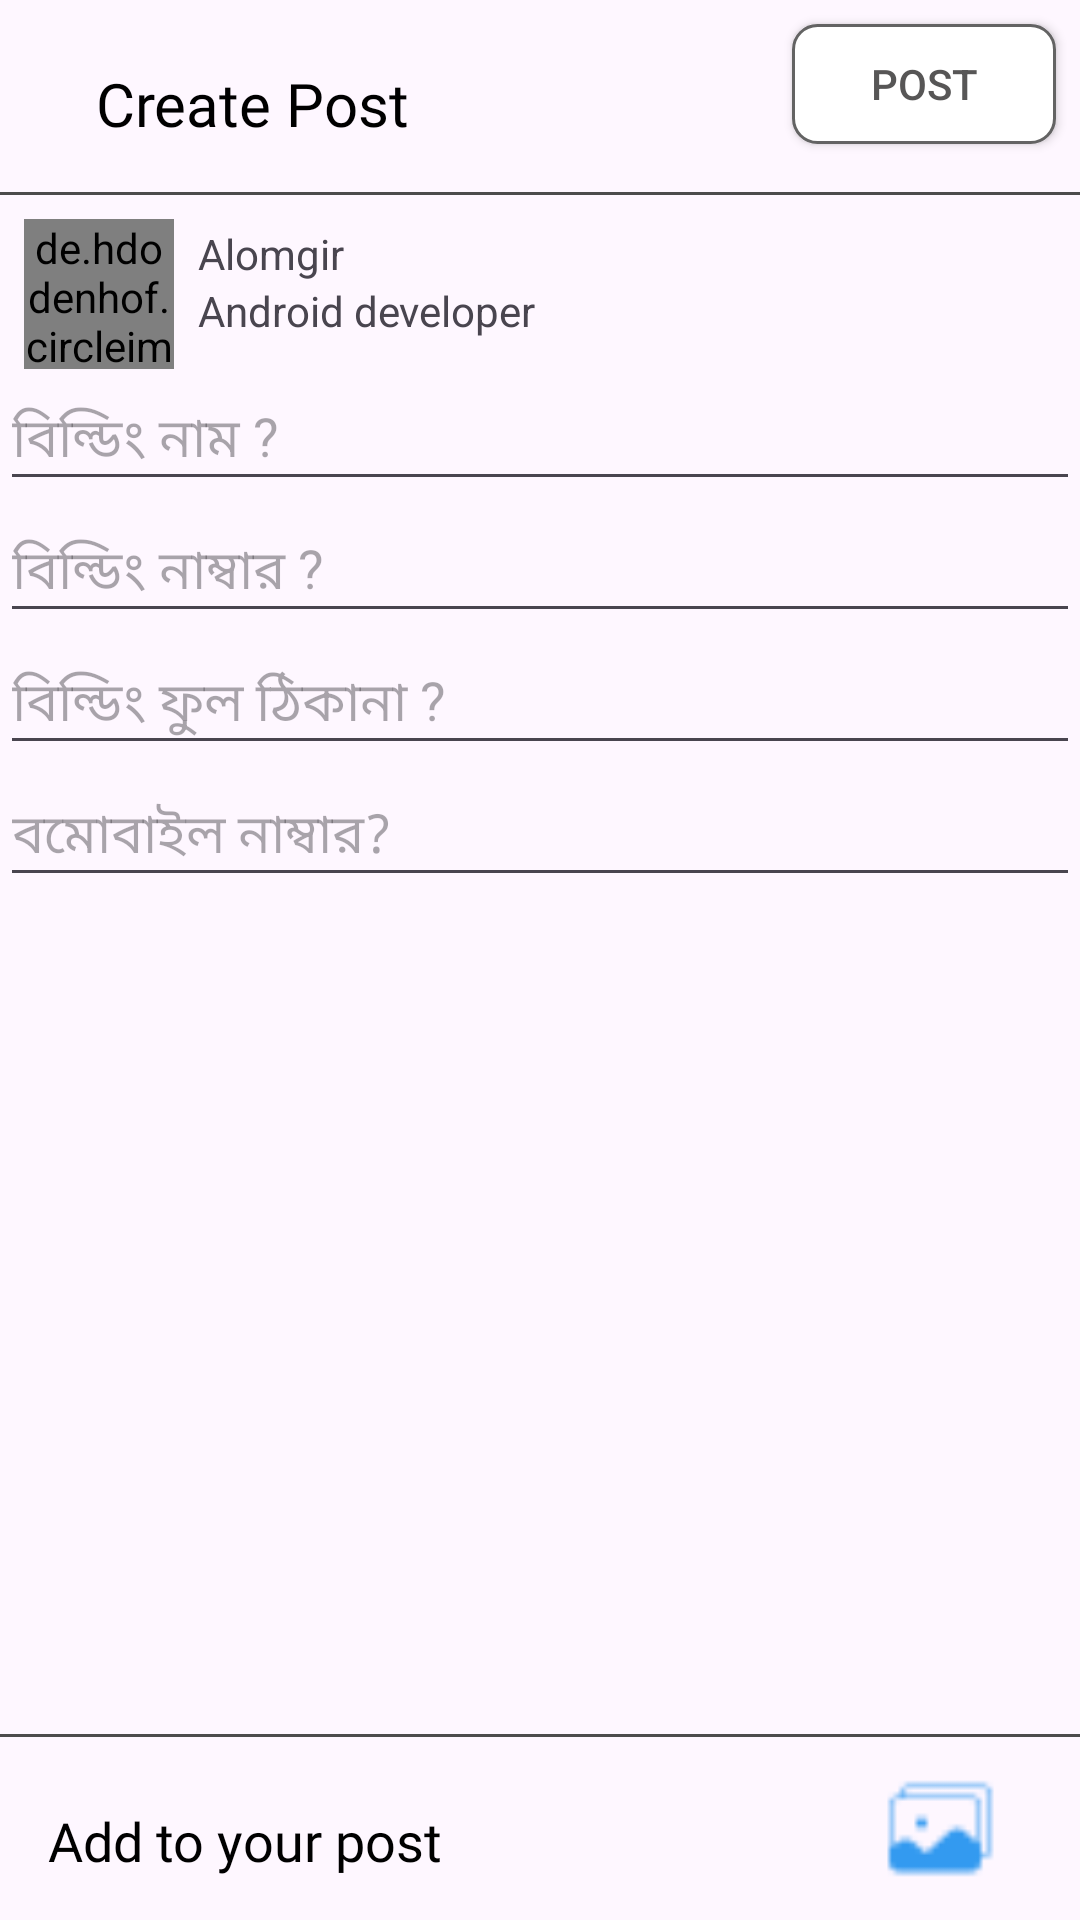

Icon click points for this 1080 × 1920 phone screenshot, format (x,y):
gallery: (940,1828)
